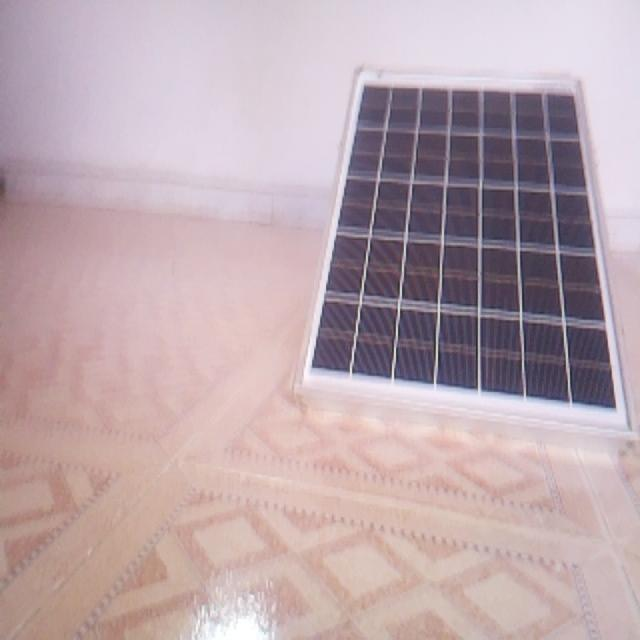Normal Solar Panel: (311, 85, 618, 407)
